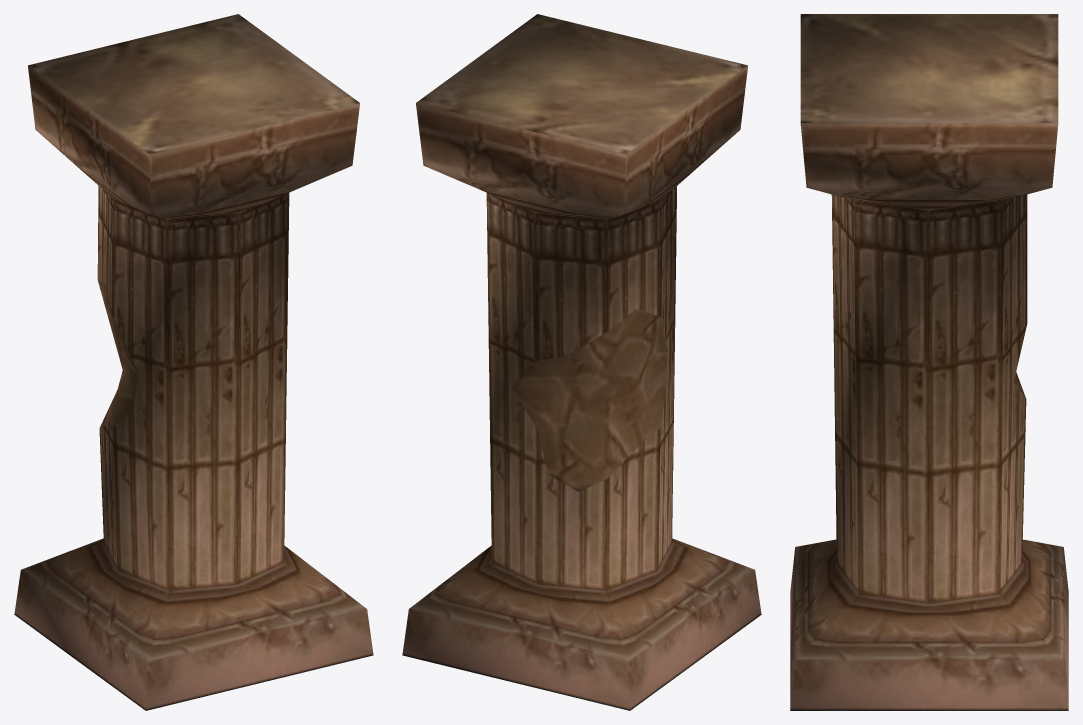
The model's file is FB5_shamozhuzi_01.FBX.
3 renders of one model, left to right at view 1: azimuth 30°, elevation 25°; view 2: azimuth 150°, elevation 25°; view 3: azimuth 270°, elevation 25°, orthographic. The views are drawn at different scales.
Visible parts, largest first — view 1: FB5_shamozhuzi_01; view 2: FB5_shamozhuzi_01; view 3: FB5_shamozhuzi_01.
Part boxes in pixels (bbox=[...]): FB5_shamozhuzi_01: bbox=[14, 14, 373, 710]; FB5_shamozhuzi_01: bbox=[402, 14, 761, 710]; FB5_shamozhuzi_01: bbox=[790, 14, 1068, 710].
Bounding box in the file's own units: 18697 × 43214 × 18697.
Materials: 1 (1 with a texture image).
